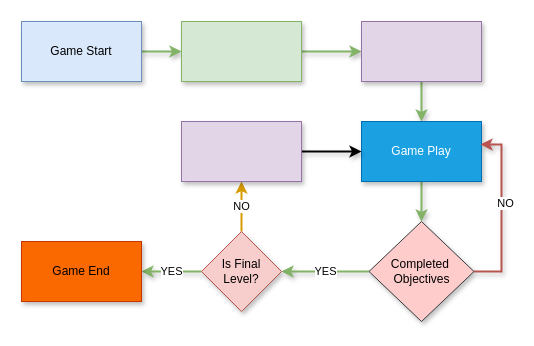
The diagram is 534 pixels wide and 346 high, and some of its shapes have lost their labels. The shapes that lost their labels are listed below. From the top down, each one's centre as x and y in pixels, then its label:
At point 242,52: "Title Screen".
At point 422,52: "Start Level".
At point 242,152: "Start Next Level".
